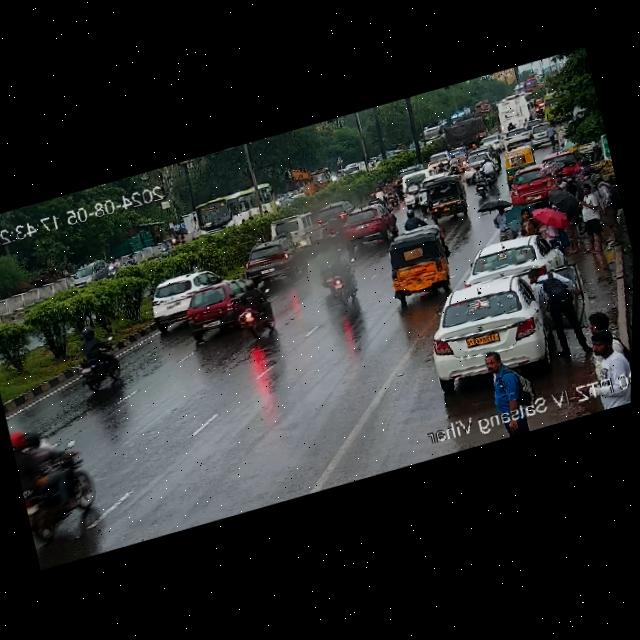bus: (184, 181, 281, 243)
car: (421, 257, 588, 391), (376, 220, 457, 304), (456, 229, 560, 293), (139, 264, 225, 337), (178, 277, 252, 344), (415, 172, 474, 225), (238, 235, 299, 285), (264, 210, 323, 258), (335, 202, 396, 246), (504, 163, 557, 207), (61, 254, 117, 292), (498, 144, 537, 173), (528, 119, 556, 148), (462, 148, 495, 171), (394, 162, 426, 178)
motorcycle: (6, 407, 112, 546), (61, 321, 127, 397), (315, 249, 361, 314), (234, 277, 282, 333), (368, 173, 402, 203), (468, 164, 495, 201), (445, 151, 465, 173)
person: (480, 343, 546, 440), (585, 329, 632, 405), (570, 179, 610, 253), (590, 170, 624, 248), (488, 200, 525, 243), (513, 204, 540, 237), (400, 209, 425, 232)
truck: (578, 296, 632, 351), (491, 88, 545, 134), (285, 163, 334, 204), (435, 114, 489, 151)
